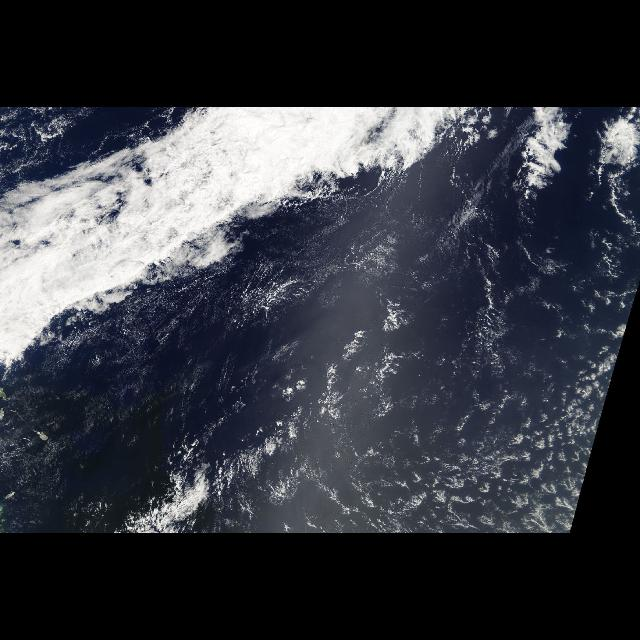Sugar: (1, 291, 220, 534), (350, 378, 614, 530)
